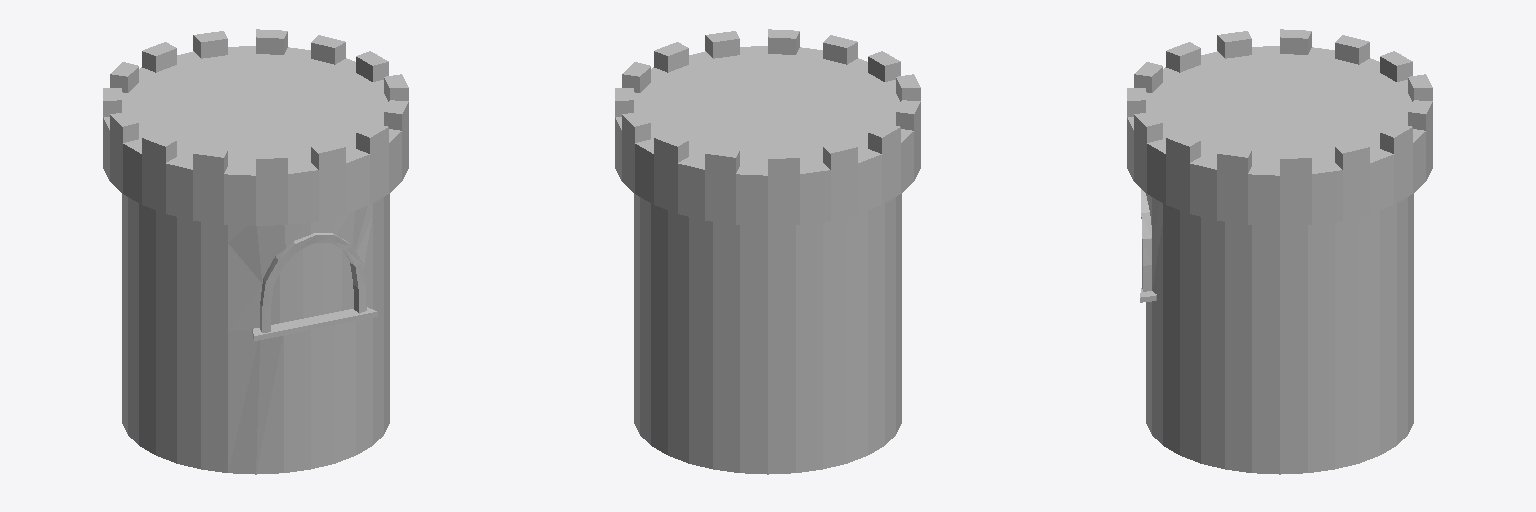
File: CAstleTower.obj
The picture shows the model from 3 angles: view 1: azimuth 30°, elevation 25°; view 2: azimuth 150°, elevation 25°; view 3: azimuth 270°, elevation 25°; orthographic projection.
Parts seen in each view (by area): view 1: pCylinder3; view 2: pCylinder3; view 3: pCylinder3.
Part boxes in pixels (bbox=[...]): pCylinder3: bbox=[103, 29, 408, 474]; pCylinder3: bbox=[615, 29, 920, 474]; pCylinder3: bbox=[1127, 29, 1432, 474].
Size of the model in its own units: 6.69 by 7.76 by 6.65.